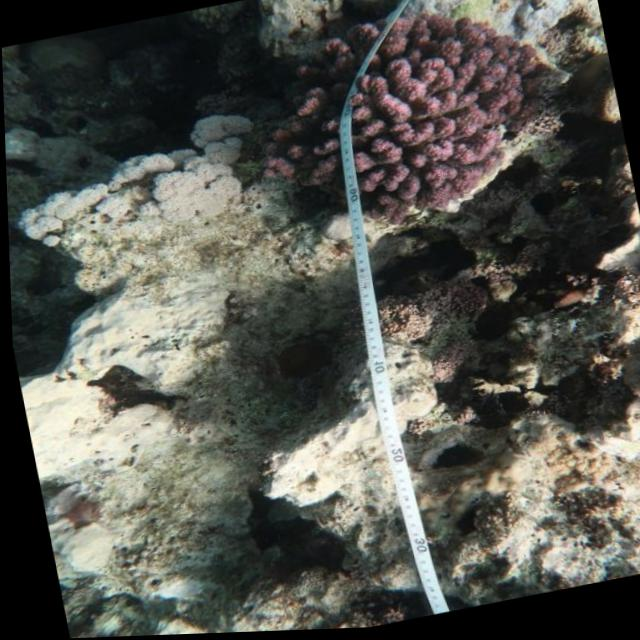Healthy Coral: (236, 0, 565, 246)
